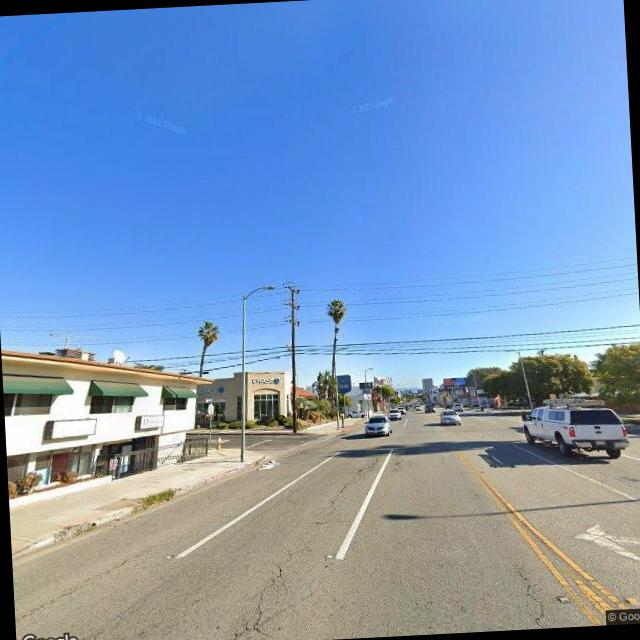pothole: (12, 542, 165, 630), (203, 545, 308, 640), (319, 451, 384, 518), (513, 561, 554, 629)
